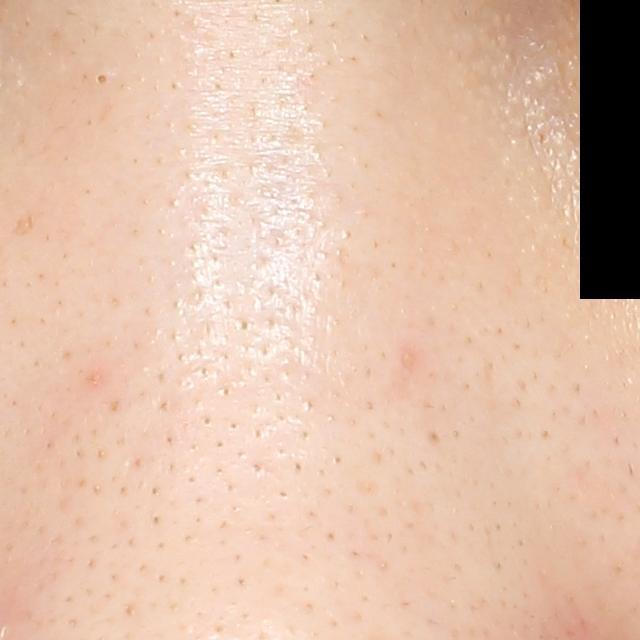comedo: (94, 70, 112, 89)
